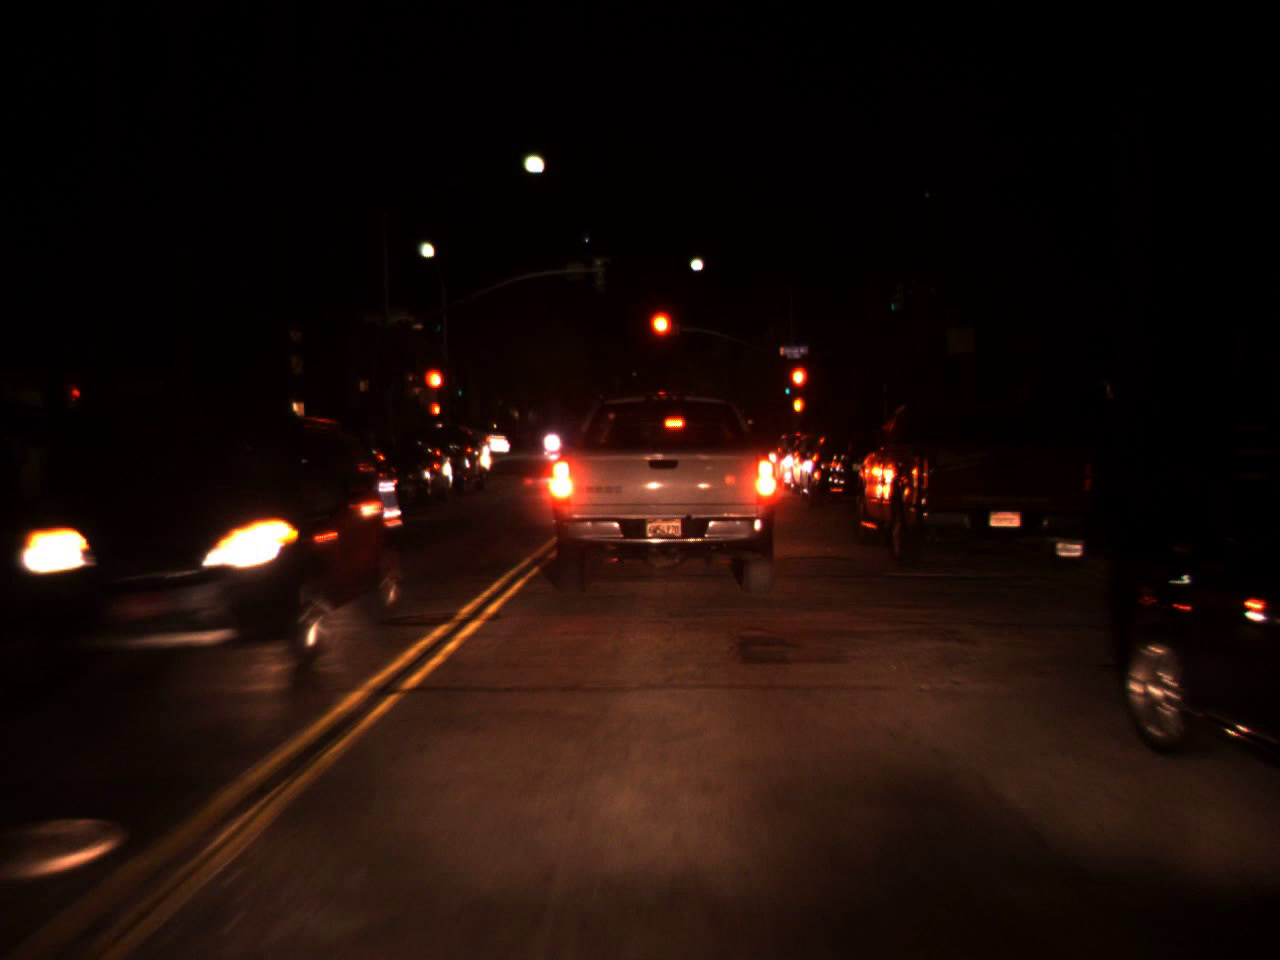stop: (647, 307, 675, 366), (422, 365, 446, 413), (788, 363, 809, 411)
